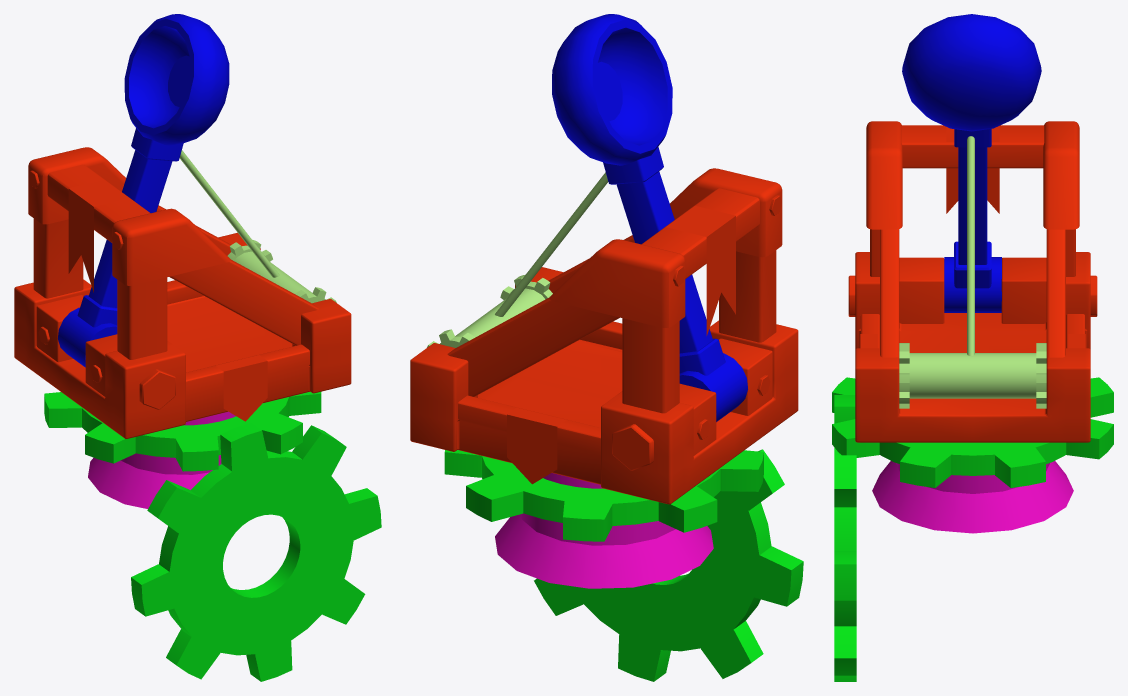
Rendered from katapultzonder.fbx.
3 views of the same model, side by side, from view 1: azimuth 30°, elevation 25°; view 2: azimuth 150°, elevation 25°; view 3: azimuth 270°, elevation 25° (orthographic). The views are drawn at different scales.
Visible parts, largest first — view 1: Base, Gear.002, Shooter, Gear.005, Base.001, Valve, Cylinder; view 2: Base, Shooter, Gear.002, Gear.005, Base.001, Valve, Cylinder; view 3: Base, Shooter, Gear.005, Base.001, Valve, Gear.002, Cylinder.
Boxes of the visible parts, x1,y1,x2,y2 form: Base: (14,147,351,438); Gear.002: (131,423,381,681); Shooter: (58,14,229,367); Gear.005: (44,392,321,471); Base.001: (88,411,235,508); Valve: (227,240,336,303); Cylinder: (179,150,279,277); Base: (410,168,798,504); Shooter: (552,14,747,421); Gear.002: (534,449,803,681); Gear.005: (444,450,763,541); Base.001: (495,473,713,588); Valve: (427,274,552,347); Cylinder: (495,172,608,316); Base: (848,121,1097,442); Shooter: (902,14,1041,312); Gear.005: (832,377,1113,487); Base.001: (872,461,1073,533); Valve: (899,343,1046,408); Gear.002: (834,395,856,681); Cylinder: (967,136,974,356).
Size of the model in its own units: 2.69 by 6.39 by 2.51.
